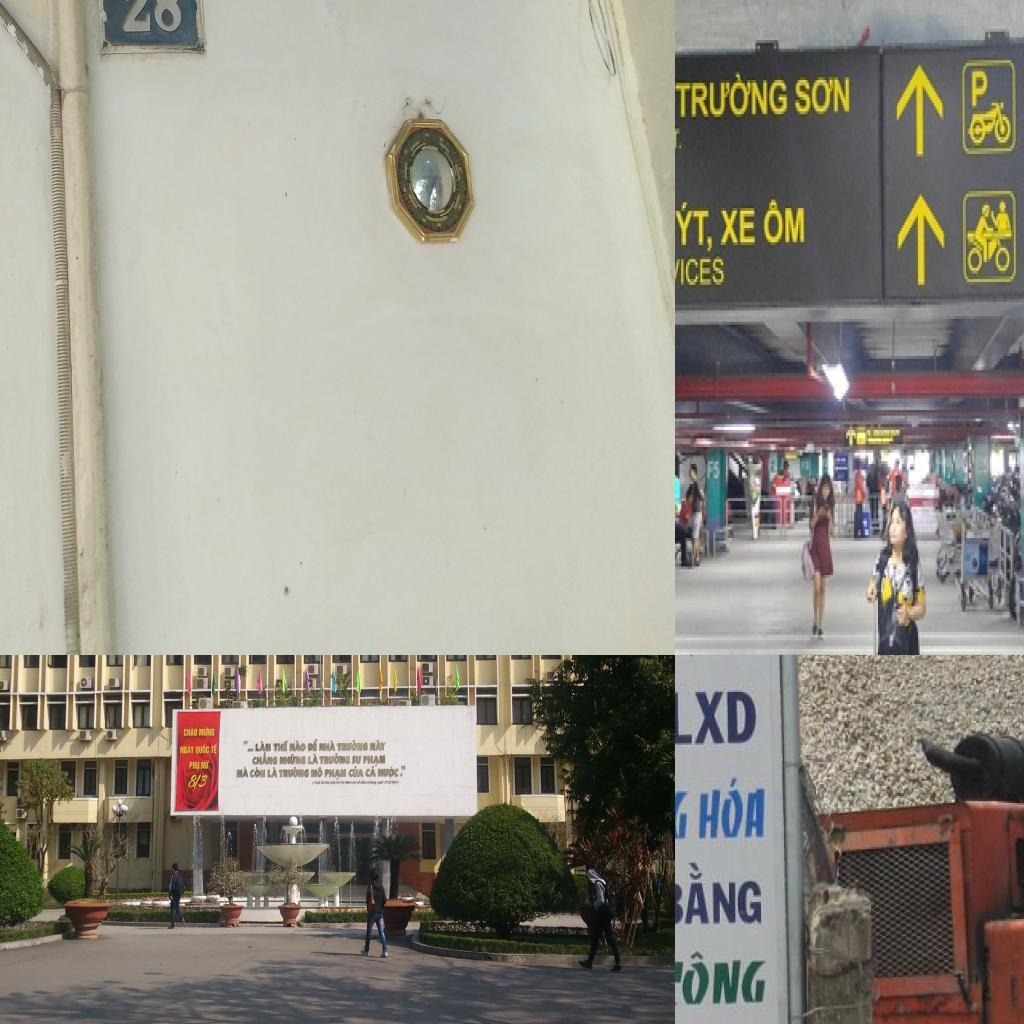text: (675, 855, 767, 934), (675, 946, 771, 1014), (675, 675, 762, 750), (696, 766, 771, 848), (675, 71, 791, 119), (794, 71, 852, 120), (761, 194, 809, 250), (675, 199, 714, 253), (675, 253, 727, 290), (720, 205, 758, 251), (969, 69, 990, 111), (377, 762, 407, 779), (187, 772, 210, 790), (319, 753, 351, 765), (337, 740, 368, 752), (252, 752, 278, 766), (279, 766, 309, 778), (976, 456, 992, 478), (278, 753, 306, 765), (707, 458, 721, 481), (675, 122, 685, 154), (363, 754, 387, 766), (324, 768, 347, 780), (369, 739, 386, 753), (319, 739, 337, 752), (198, 726, 216, 738), (256, 739, 272, 752), (273, 739, 289, 752), (250, 766, 266, 779), (290, 740, 306, 752), (348, 766, 364, 778), (183, 726, 198, 738), (195, 743, 210, 755), (235, 766, 249, 778), (310, 766, 324, 778), (179, 744, 195, 754), (242, 739, 254, 752), (188, 760, 200, 772), (365, 766, 377, 778), (308, 738, 318, 752), (267, 766, 278, 778), (200, 758, 210, 770), (308, 752, 318, 764), (352, 754, 362, 764), (211, 742, 218, 754), (311, 780, 321, 786), (367, 780, 377, 785), (360, 779, 368, 785), (377, 780, 385, 786), (324, 780, 330, 786), (340, 780, 346, 786), (345, 780, 352, 785), (330, 780, 336, 785), (352, 780, 357, 785), (321, 780, 325, 785), (336, 780, 341, 784), (356, 780, 361, 784)
